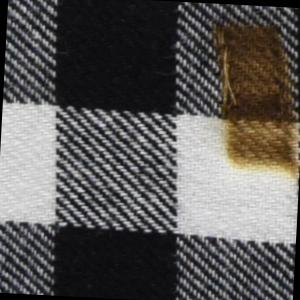Oil Stain: (204, 20, 300, 179)
